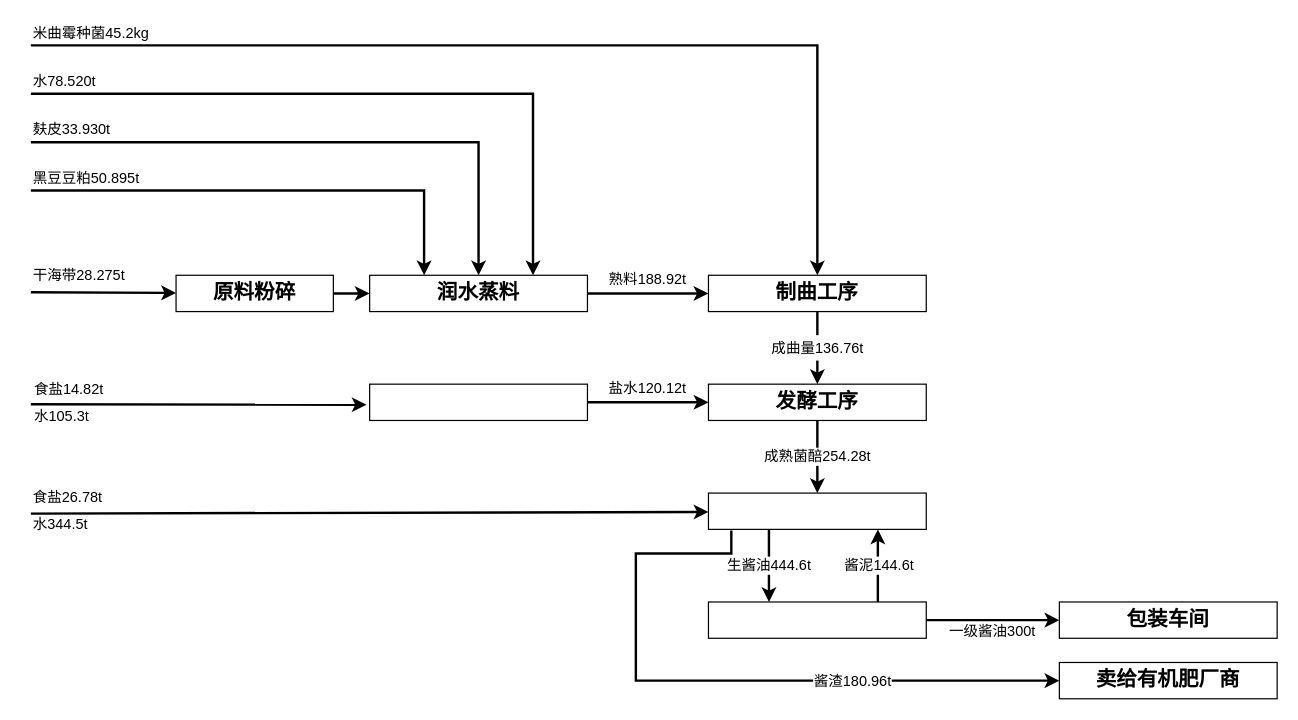
Some shapes in this 1298 by 720 pixel diagram are drawn without their labels. The box of each missing label's shape, as (x1, y1, x2, y2) in pixels:
后处理工序: (707, 601, 926, 638)
连续浸出: (707, 492, 926, 529)
配置盐水: (368, 383, 587, 420)
